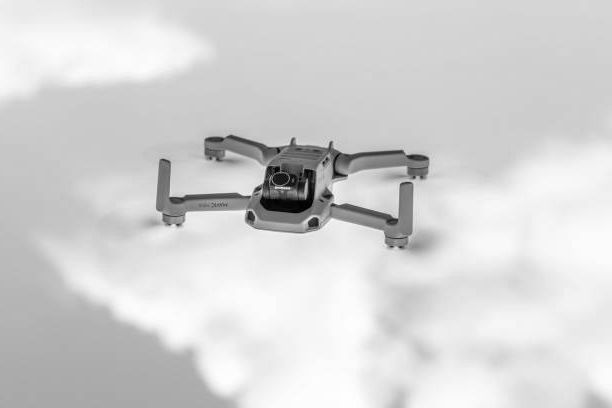Drone: (135, 127, 444, 258)
